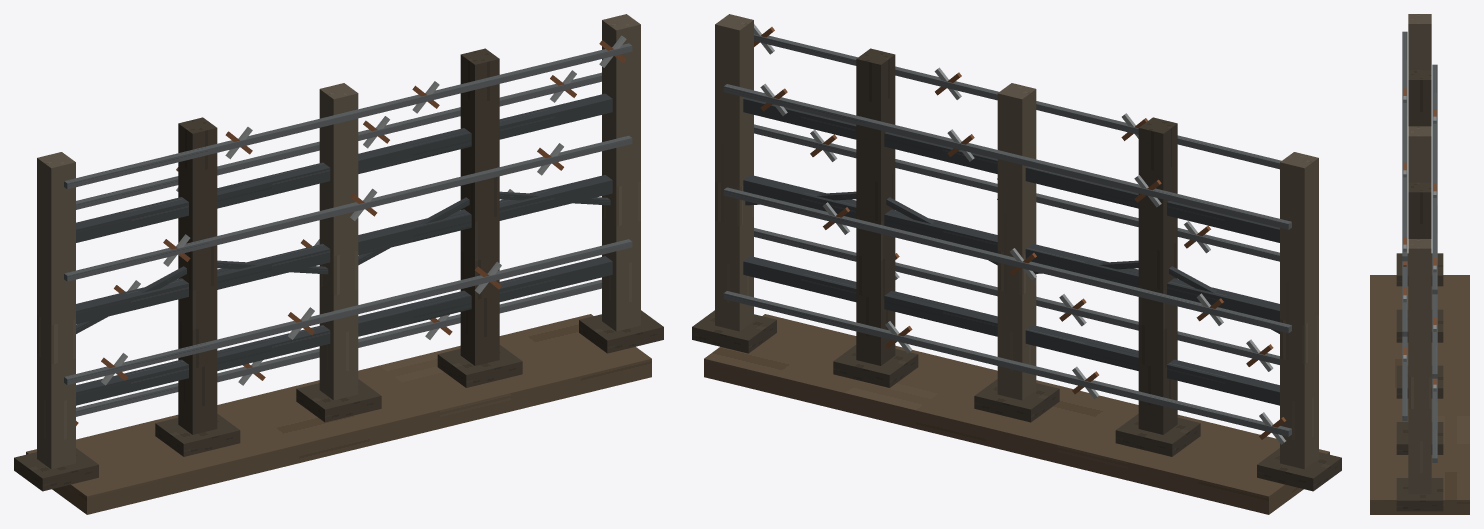
3 renders of one model, left to right at view 1: azimuth 30°, elevation 25°; view 2: azimuth 150°, elevation 25°; view 3: azimuth 270°, elevation 25°, orthographic. The views are drawn at different scales.
Visible parts, largest first — view 1: Base_Tierra, Poste_0, Poste_2, Poste_1, Poste_4, Poste_3, Travesano_2, Travesano_0, Travesano_1, Alambre_H_1, Alambre_H_3, Alambre_H_5 (+7 smaller); view 2: Base_Tierra, Poste_0, Poste_4, Poste_3, Poste_2, Poste_1, Travesano_0, Travesano_1, Travesano_2, Alambre_H_2, Alambre_H_0, Alambre_H_4 (+8 smaller); view 3: Base_Tierra, Poste_4, Poste_0, Poste_1, Poste_2, Poste_3, Alambre_H_4, Alambre_H_5, Pie_Post_4, Pie_Post_3, Pie_Post_0, Pie_Post_1 (+5 smaller).
Part boxes in pixels (left/top/right/bottom): Base_Tierra: left=26, top=314, right=651, bottom=514; Poste_0: left=37, top=152, right=75, bottom=469; Poste_2: left=319, top=83, right=358, bottom=400; Poste_1: left=178, top=117, right=217, bottom=434; Poste_4: left=602, top=14, right=640, bottom=331; Poste_3: left=460, top=48, right=499, bottom=365; Travesano_2: left=76, top=93, right=612, bottom=242; Travesano_0: left=76, top=256, right=612, bottom=405; Travesano_1: left=76, top=175, right=612, bottom=324; Alambre_H_1: left=64, top=239, right=632, bottom=384; Alambre_H_3: left=64, top=135, right=632, bottom=281; Alambre_H_5: left=64, top=43, right=632, bottom=189; Base_Tierra: left=704, top=314, right=1329, bottom=514; Poste_0: left=1280, top=152, right=1318, bottom=469; Poste_4: left=715, top=14, right=753, bottom=331; Poste_3: left=856, top=48, right=895, bottom=365; Poste_2: left=997, top=83, right=1036, bottom=400; Poste_1: left=1138, top=117, right=1177, bottom=434; Travesano_0: left=743, top=256, right=1279, bottom=405; Travesano_1: left=743, top=175, right=1279, bottom=322; Travesano_2: left=743, top=97, right=1279, bottom=242; Alambre_H_2: left=723, top=187, right=1291, bottom=333; Alambre_H_0: left=723, top=291, right=1291, bottom=436; Alambre_H_4: left=723, top=84, right=1291, bottom=229; Base_Tierra: left=1370, top=275, right=1469, bottom=514; Poste_4: left=1408, top=239, right=1431, bottom=494; Poste_0: left=1408, top=14, right=1431, bottom=70; Poste_1: left=1408, top=70, right=1431, bottom=126; Poste_2: left=1408, top=126, right=1431, bottom=182; Poste_3: left=1408, top=182, right=1431, bottom=238; Alambre_H_4: left=1432, top=64, right=1437, bottom=294; Alambre_H_5: left=1402, top=31, right=1407, bottom=261; Pie_Post_4: left=1396, top=478, right=1443, bottom=511; Pie_Post_3: left=1396, top=422, right=1443, bottom=454; Pie_Post_0: left=1396, top=253, right=1443, bottom=286; Pie_Post_1: left=1396, top=309, right=1443, bottom=342.
Size of the model in its own units: 1.1 by 0.5625 by 0.1875.
1 material, 1 textured.
